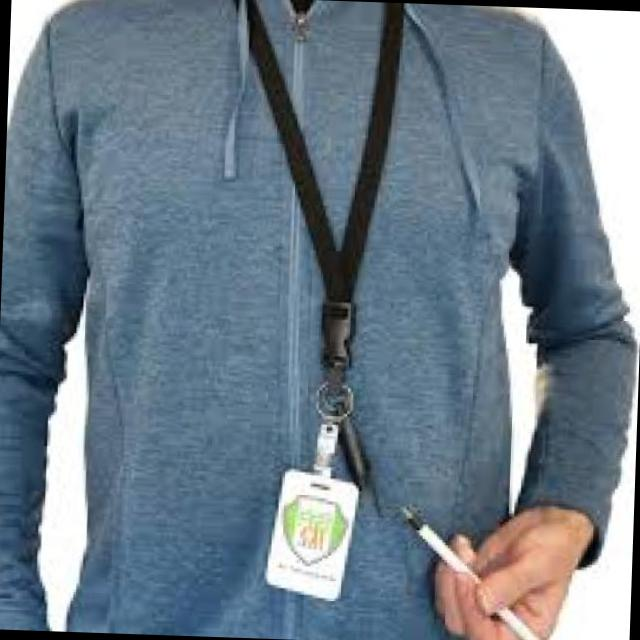id_card: (205, 3, 422, 584)
